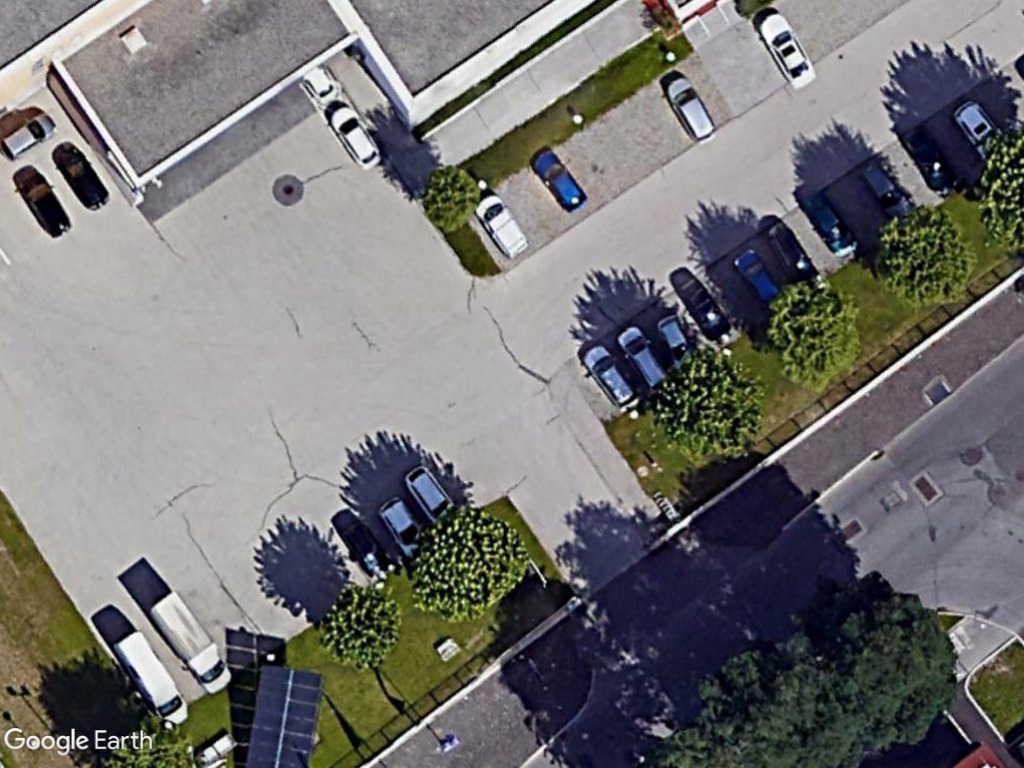car: (756, 8, 819, 92), (574, 339, 642, 411), (529, 145, 593, 218), (48, 137, 110, 210), (672, 270, 734, 343), (799, 188, 861, 260), (11, 166, 73, 237), (613, 323, 673, 396), (661, 70, 719, 144), (323, 104, 385, 172), (1, 109, 60, 163)
van: (146, 586, 235, 697), (108, 627, 190, 730), (473, 192, 532, 262)
